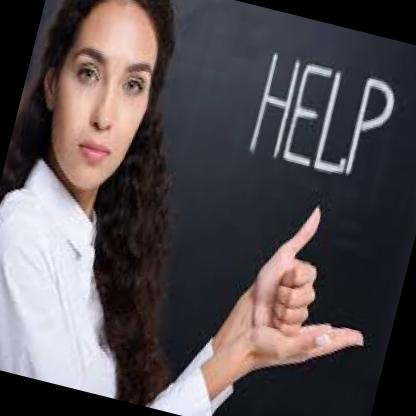help: (207, 154, 408, 416)
